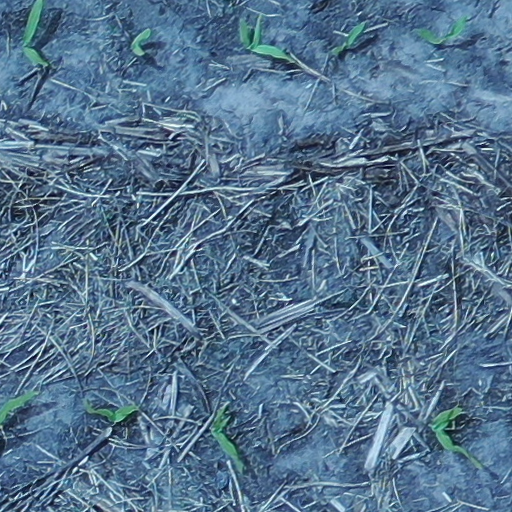planta: (433, 407, 483, 466), (240, 15, 292, 61), (213, 402, 242, 470), (418, 16, 467, 43), (85, 402, 139, 421), (331, 23, 363, 53), (132, 30, 151, 55)
